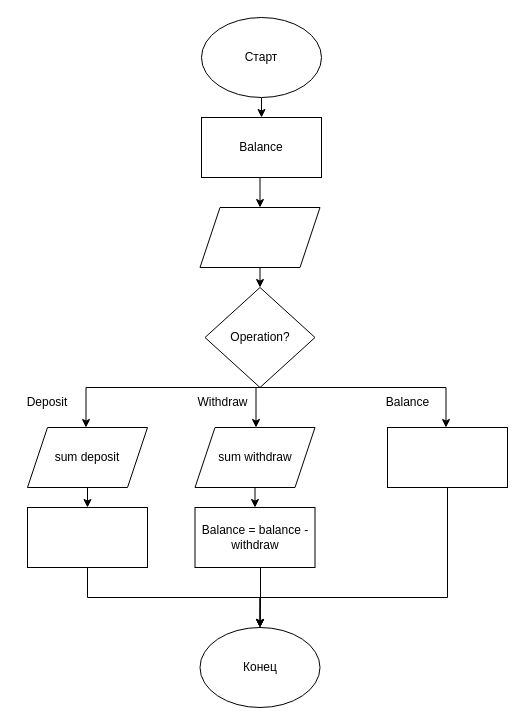
Image size: 525x725. Some labels were removed from this diagram. Here are the shapes that lost their labels. From the top down, the box of each, then its label:
(199, 206, 320, 268): Operation
(386, 426, 508, 488): Print Balance
(26, 506, 148, 568): Balance = balance + deposit
